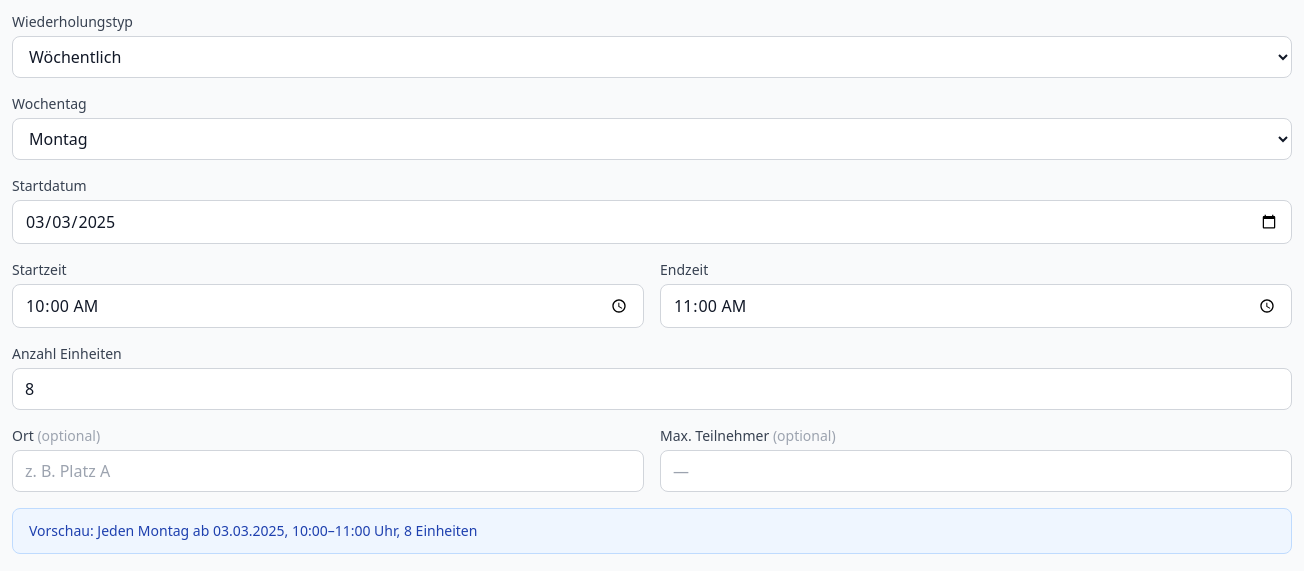
Test case: CourseRecurrenceForm › Typ-Wechsel › wechselt von weekly zu monthly und zeigt Monatstag-Input
The width and height of the screenshot is (1304, 571).
Expected: the dropdown with id "rr-weekday" is shown, [12,118,1292,160]
Select "Monatlich" in the dropdown with id "rr-type": (652, 57) [12,36,1292,78]
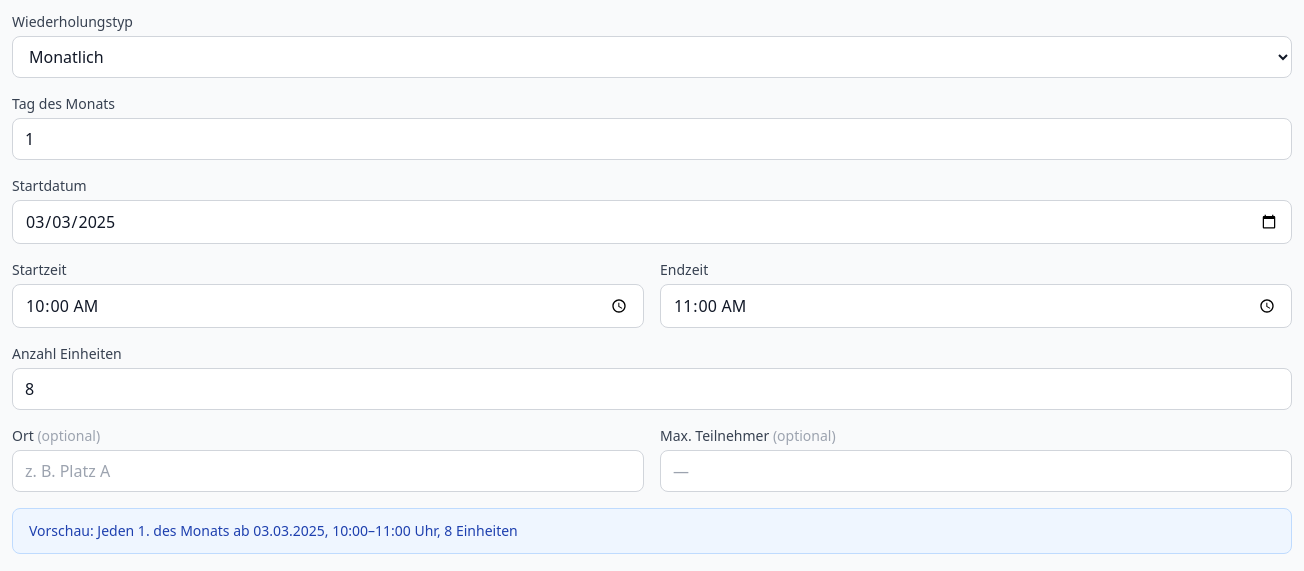
Result: the number field with id "rr-day-of-month" is shown at [12,118,1292,160]
